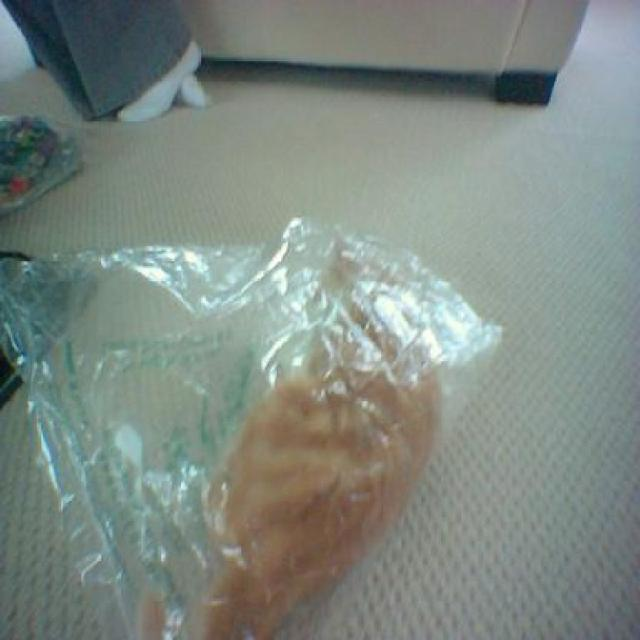plastic bag: (0, 187, 502, 638)
